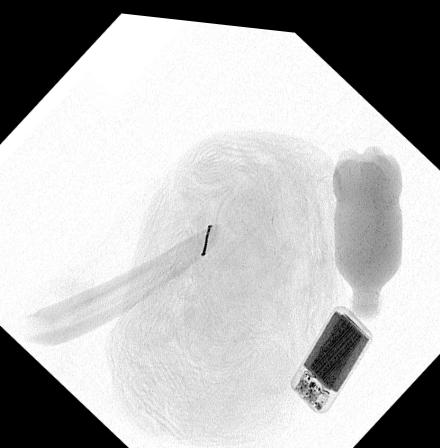Powerbank: (290, 296, 376, 407)
